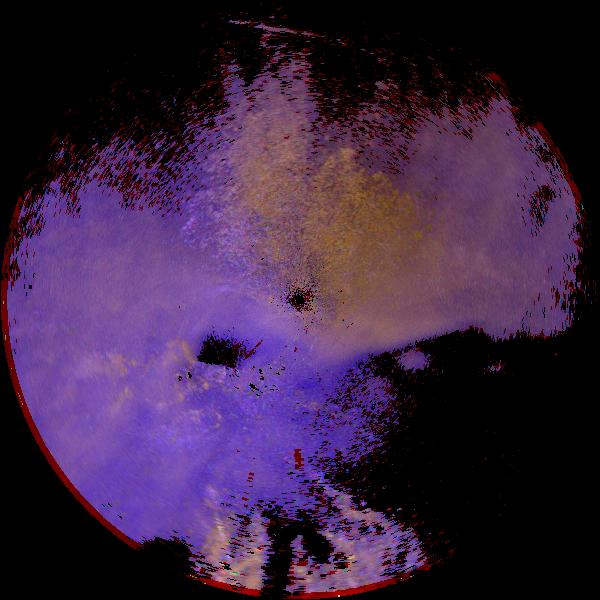roost: (64, 349, 142, 427)
